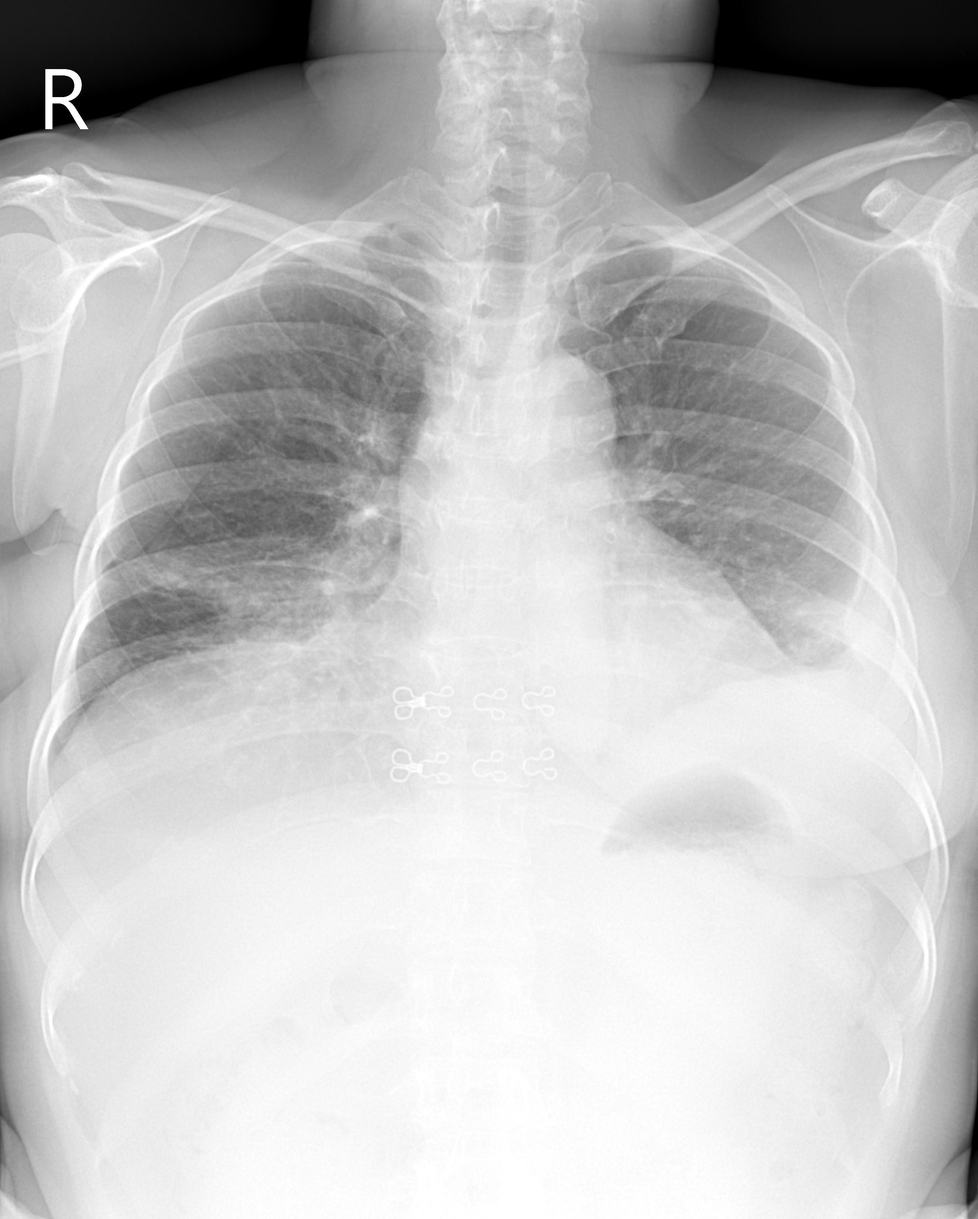Cardiomegaly: (336, 555, 783, 743)
